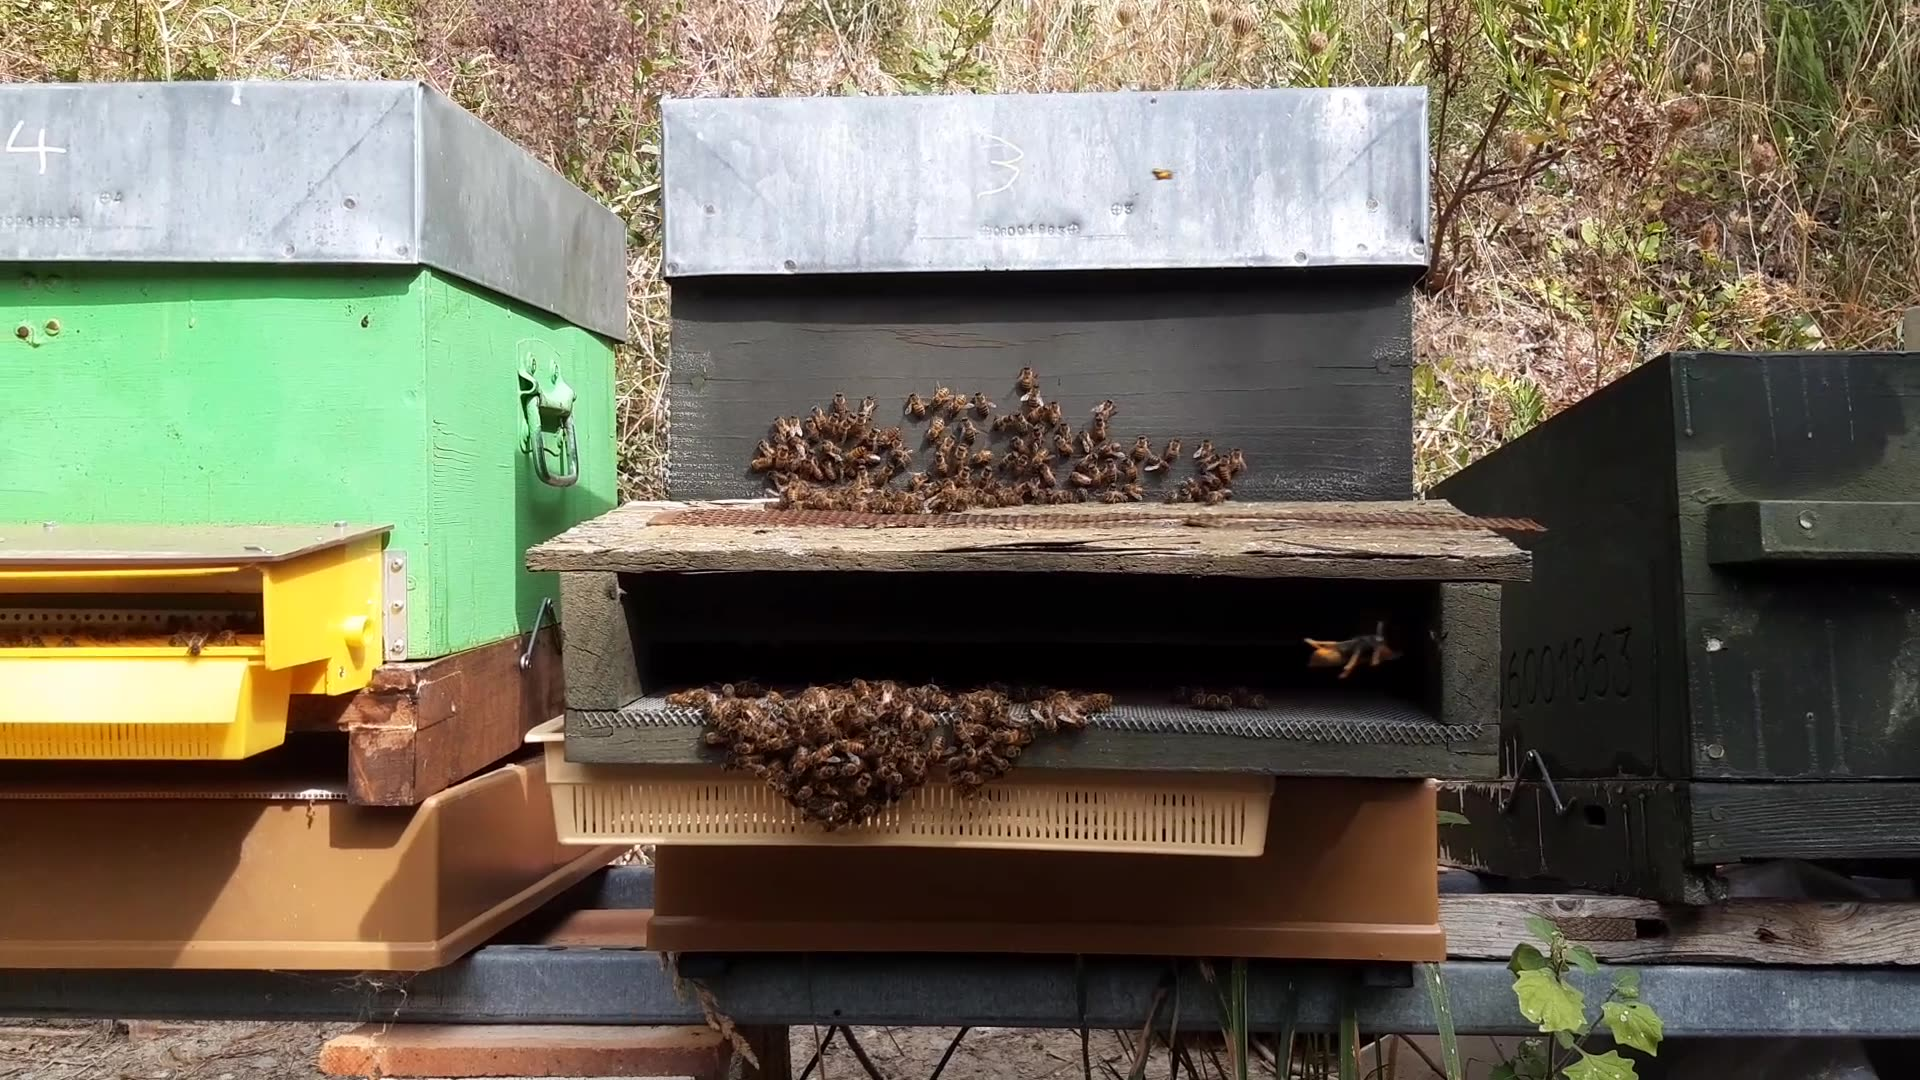bee: (669, 688, 777, 748), (1026, 686, 1124, 740), (1288, 629, 1377, 688), (1027, 446, 1112, 502), (938, 757, 1006, 825), (1160, 442, 1240, 498), (928, 456, 1000, 516), (832, 676, 923, 719), (853, 454, 923, 508), (804, 407, 872, 454), (936, 386, 988, 440), (1047, 414, 1092, 463)
